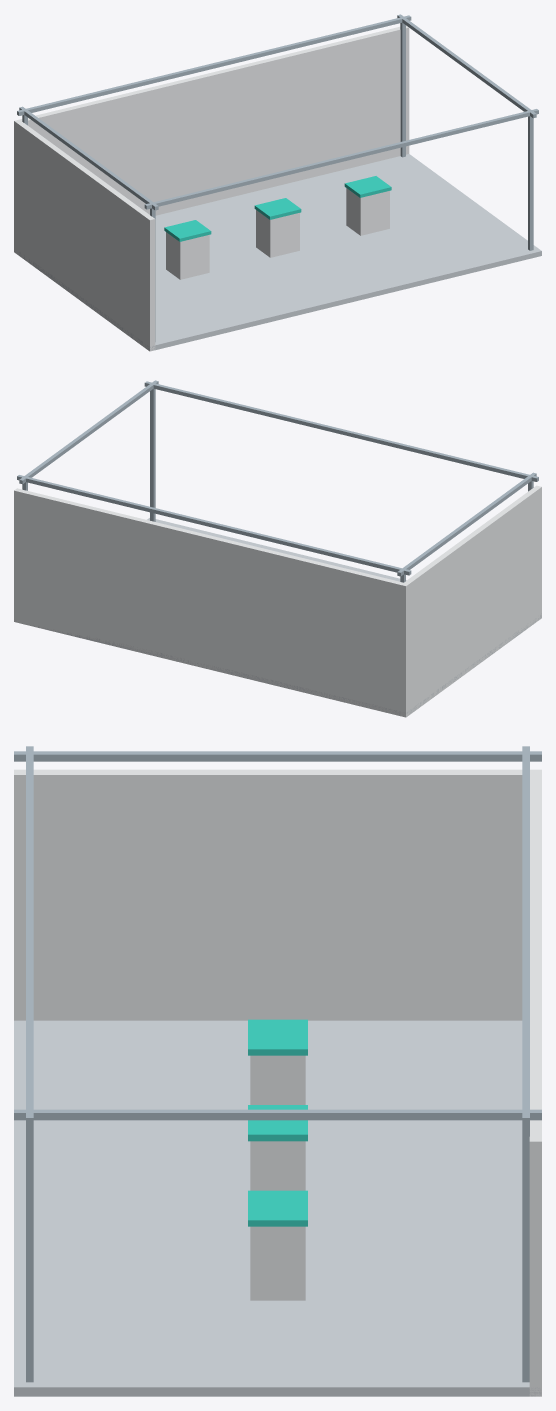
3 views of the same model, one above another, from view 1: azimuth 30°, elevation 25°; view 2: azimuth 150°, elevation 25°; view 3: azimuth 270°, elevation 25° (orthographic). The views are drawn at different scales.
Parts seen in each view (by area): view 1: Exhibition Booth Concept; view 2: Exhibition Booth Concept; view 3: Exhibition Booth Concept.
Boxes of the visible parts, <box> form: Exhibition Booth Concept: <box>14,14,541,351</box>; Exhibition Booth Concept: <box>14,380,541,717</box>; Exhibition Booth Concept: <box>14,746,541,1396</box>.
Size of the model in its own units: 10 by 3.49 by 6.
